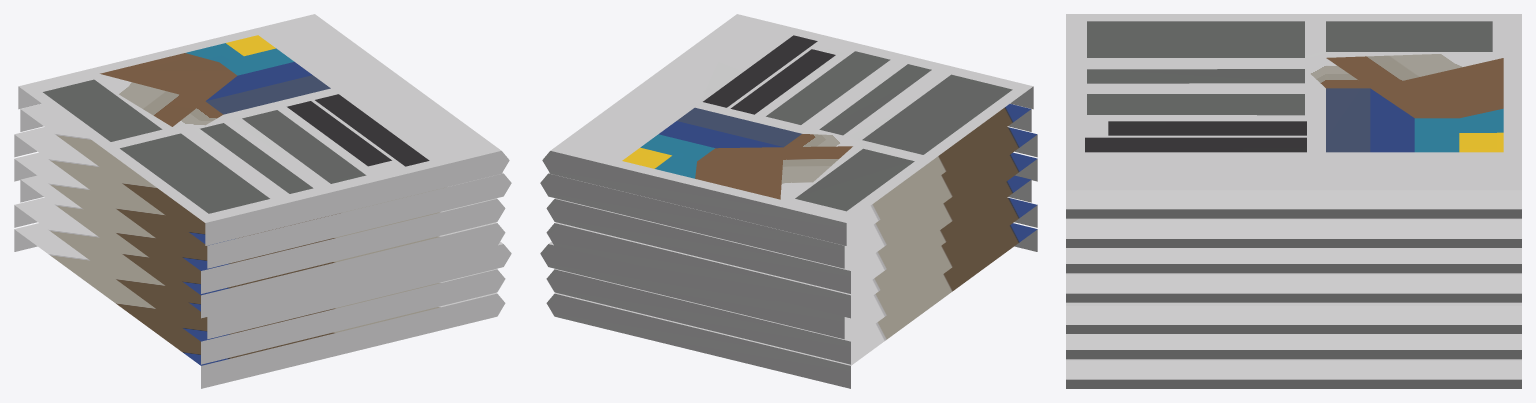
Rendered from SM_newspaperStack.gltf.
3 renders of one model, left to right at view 1: azimuth 30°, elevation 25°; view 2: azimuth 150°, elevation 25°; view 3: azimuth 270°, elevation 25°, orthographic. The views are drawn at different scales.
Parts seen in each view (by area): view 1: SM_newspaperStack; view 2: SM_newspaperStack; view 3: SM_newspaperStack.
Boxes of the visible parts, left/top/right/bottom form: SM_newspaperStack: left=14, top=14, right=511, bottom=388; SM_newspaperStack: left=540, top=14, right=1037, bottom=388; SM_newspaperStack: left=1066, top=14, right=1521, bottom=388.
Size of the model in its own units: 0.42 by 0.2129 by 0.4372.
1 material, 1 textured.
